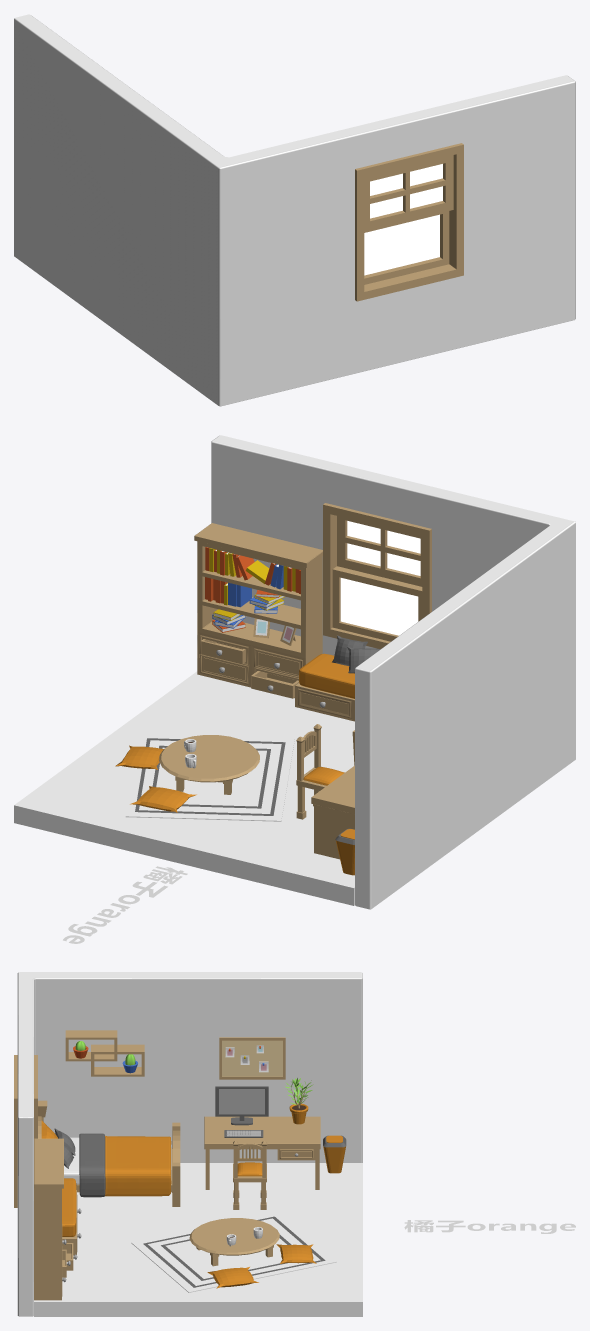
The model's file is house.glb.
The picture shows the model from 3 angles, top to bottom: view 1: azimuth 30°, elevation 25°; view 2: azimuth 150°, elevation 25°; view 3: azimuth 270°, elevation 25°; orthographic projection. The views are drawn at different scales.
Visible parts, largest first — view 1: Wall, Window; view 2: Wall, Floor, Bookshelf, Window, Carpet, Coffe table, Sofa, Table, Book.001, Chair, author, Book.002 (+3 smaller); view 3: Wall, Floor, Bed, Carpet, Bookshelf, Table, Board, Coffe table, Wallshelf, PC, Chair, author (+8 smaller).
Boxes of the visible parts, x1,y1,x2,y2 form: Wall: [14, 14, 575, 406]; Window: [355, 143, 463, 301]; Wall: [211, 435, 575, 909]; Floor: [14, 671, 354, 905]; Bookshelf: [194, 523, 322, 698]; Window: [323, 503, 431, 648]; Carpet: [125, 733, 294, 821]; Coffe table: [159, 735, 259, 794]; Sofa: [295, 653, 354, 721]; Table: [311, 765, 354, 859]; Book.001: [205, 547, 300, 594]; Chair: [296, 724, 344, 819]; author: [63, 866, 187, 943]; Book.002: [205, 577, 251, 607]; Wall: [17, 972, 362, 1316]; Floor: [34, 1163, 362, 1316]; Bed: [64, 1133, 171, 1197]; Carpet: [131, 1212, 336, 1292]; Bookshelf: [34, 1138, 77, 1300]; Table: [204, 1116, 320, 1189]; Board: [219, 1037, 285, 1079]; Coffe table: [189, 1218, 279, 1266]; Wallshelf: [65, 1030, 144, 1076]; PC: [215, 1086, 268, 1125]; Chair: [233, 1141, 267, 1209]; author: [404, 1220, 575, 1233].
Size of what is drawn, in the model's own units: 8.4 by 5.37 by 13.67.
